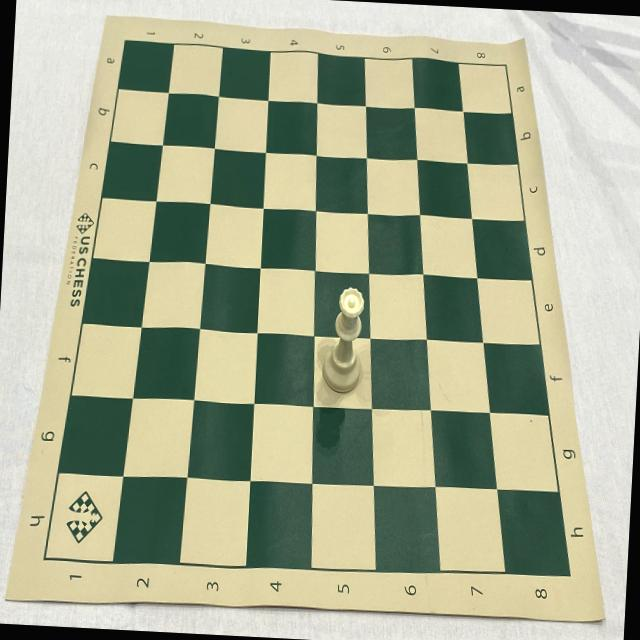white-queen: (321, 286, 366, 396)
